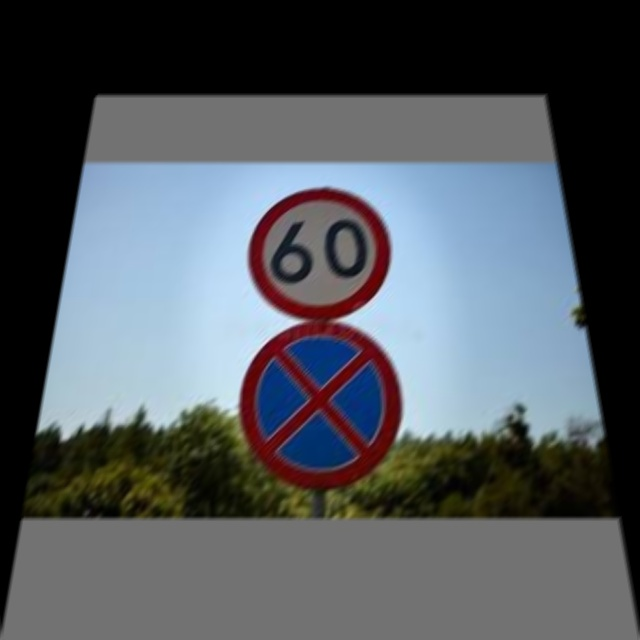Speed_Limit_60: (248, 187, 391, 320)
